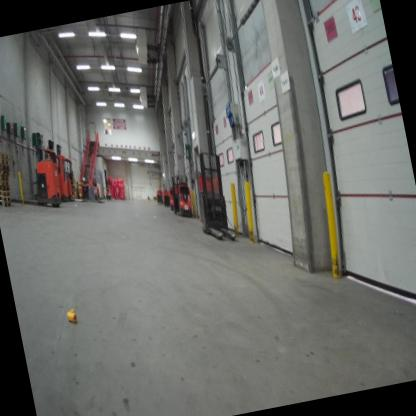forklift: (0, 128, 65, 218), (36, 135, 75, 210), (50, 136, 81, 208)
pallet: (0, 175, 11, 189), (0, 179, 11, 193), (0, 196, 12, 208), (0, 162, 10, 176), (0, 167, 11, 179), (0, 190, 11, 202), (0, 187, 10, 198), (0, 153, 8, 166), (0, 157, 9, 168), (0, 147, 9, 157)
pallet_truck: (185, 140, 240, 253), (165, 169, 197, 217), (68, 170, 97, 208), (162, 180, 182, 212), (86, 178, 105, 209), (159, 184, 174, 209), (152, 182, 165, 206)
